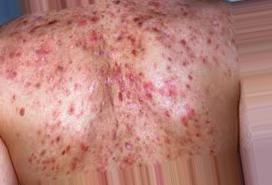Acne: (76, 8, 151, 97), (123, 98, 220, 161), (44, 100, 121, 164), (1, 25, 75, 88), (165, 13, 224, 71)
